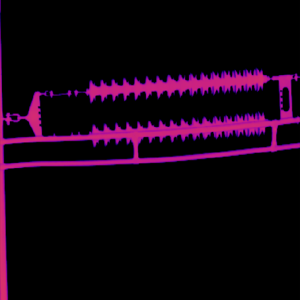insulator: (86, 66, 269, 145)
